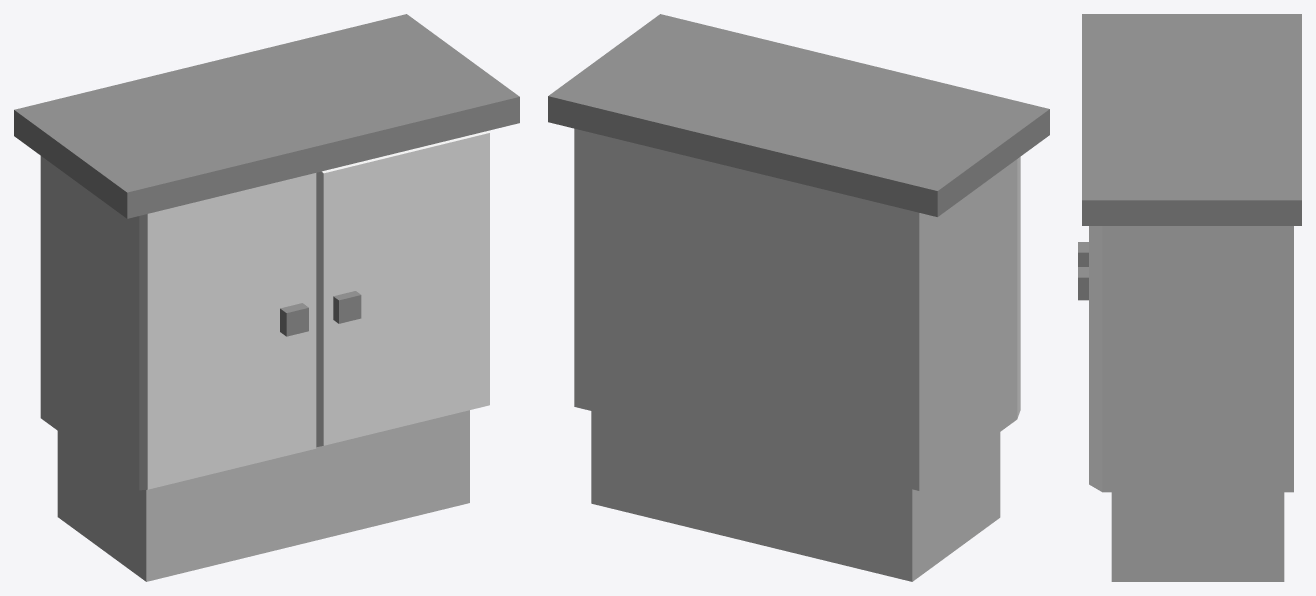
Rendered from ElectricBox_01.glb.
3 views of the same model, side by side, from view 1: azimuth 30°, elevation 25°; view 2: azimuth 150°, elevation 25°; view 3: azimuth 270°, elevation 25° (orthographic). The views are drawn at different scales.
Visible parts, largest first — view 1: ElectricBox_1_mesh; view 2: ElectricBox_1_mesh; view 3: ElectricBox_1_mesh.
Boxes of the visible parts, box(x1,y1,x2,y2) form: ElectricBox_1_mesh: box(14, 14, 519, 581); ElectricBox_1_mesh: box(548, 14, 1049, 581); ElectricBox_1_mesh: box(1078, 14, 1301, 581).
Size of the model in its own units: 1.23 by 1.23 by 0.6247.
1 material, 1 textured.
